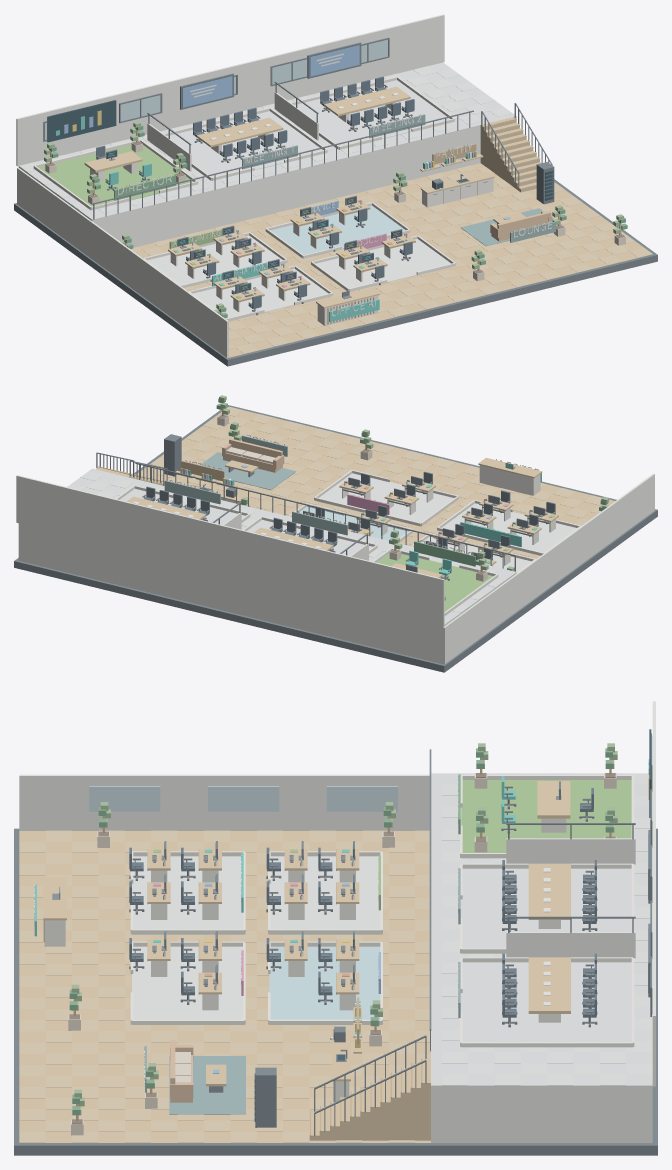
The model's file is office_ai_expanded_v2.glb.
3 renders of one model, top to bottom at view 1: azimuth 30°, elevation 25°; view 2: azimuth 150°, elevation 25°; view 3: azimuth 270°, elevation 25°, orthographic. The views are drawn at different scales.
Visible parts, largest first — view 1: lower_floor_2, rear_wall_453, raised_wing_base_339, left_wall_484, foundation_1, raised_wing_floor_340, zone_floor_571, zone_floor_873, zone_floor_1242, zone_floor_2550, zone_floor_1959, zone_floor_2182 (+21 smaller); view 2: rear_wall_453, raised_wing_base_339, lower_floor_2, left_wall_484, foundation_1, raised_wing_floor_340, zone_floor_2550, zone_floor_2182, zone_floor_571, lounge_lounge_rug_975, reception_reception_counter_1017, balcony_top_488 (+15 smaller); view 3: lower_floor_2, left_wall_484, raised_wing_floor_340, raised_wing_base_339, foundation_1, zone_floor_1242, zone_floor_873, zone_floor_571, zone_floor_2550, zone_floor_1959, zone_floor_1631, zone_floor_2182 (+25 smaller).
Boxes of the visible parts, box(x1,y1,x2,y2) form: lower_floor_2: box(135, 163, 652, 357); rear_wall_453: box(16, 14, 444, 166); raised_wing_base_339: box(18, 116, 516, 247); left_wall_484: box(17, 167, 228, 357); foundation_1: box(14, 179, 657, 366); raised_wing_floor_340: box(19, 62, 516, 219); zone_floor_571: box(38, 145, 193, 206); zone_floor_873: box(167, 111, 322, 177); zone_floor_1242: box(294, 80, 449, 145); zone_floor_2550: box(316, 239, 450, 288); zone_floor_1959: box(270, 205, 405, 254); zone_floor_2182: box(193, 269, 328, 318); rear_wall_453: box(16, 475, 444, 626); raised_wing_base_339: box(18, 523, 516, 663); lower_floor_2: box(20, 410, 615, 663); left_wall_484: box(443, 473, 654, 664); foundation_1: box(14, 405, 657, 672); raised_wing_floor_340: box(71, 468, 516, 624); zone_floor_2550: box(319, 473, 453, 522); zone_floor_2182: box(442, 503, 576, 552); zone_floor_571: box(377, 553, 493, 611); lounge_lounge_rug_975: box(201, 452, 296, 490); reception_reception_counter_1017: box(479, 465, 540, 495); balcony_top_488: box(135, 462, 516, 556); lower_floor_2: box(19, 831, 652, 1143); left_wall_484: box(19, 774, 429, 830); raised_wing_floor_340: box(431, 773, 652, 1086); raised_wing_base_339: box(431, 1086, 652, 1142); foundation_1: box(14, 828, 657, 1155); zone_floor_1242: box(461, 962, 631, 1041); zone_floor_873: box(461, 868, 631, 948); zone_floor_571: box(461, 780, 631, 852); zone_floor_2550: box(132, 946, 242, 1019); zone_floor_1959: box(269, 946, 380, 1019); zone_floor_1631: box(269, 856, 380, 929); zone_floor_2182: box(132, 856, 242, 929).
Size of the model in its own units: 28.4 by 5.79 by 24.4.
